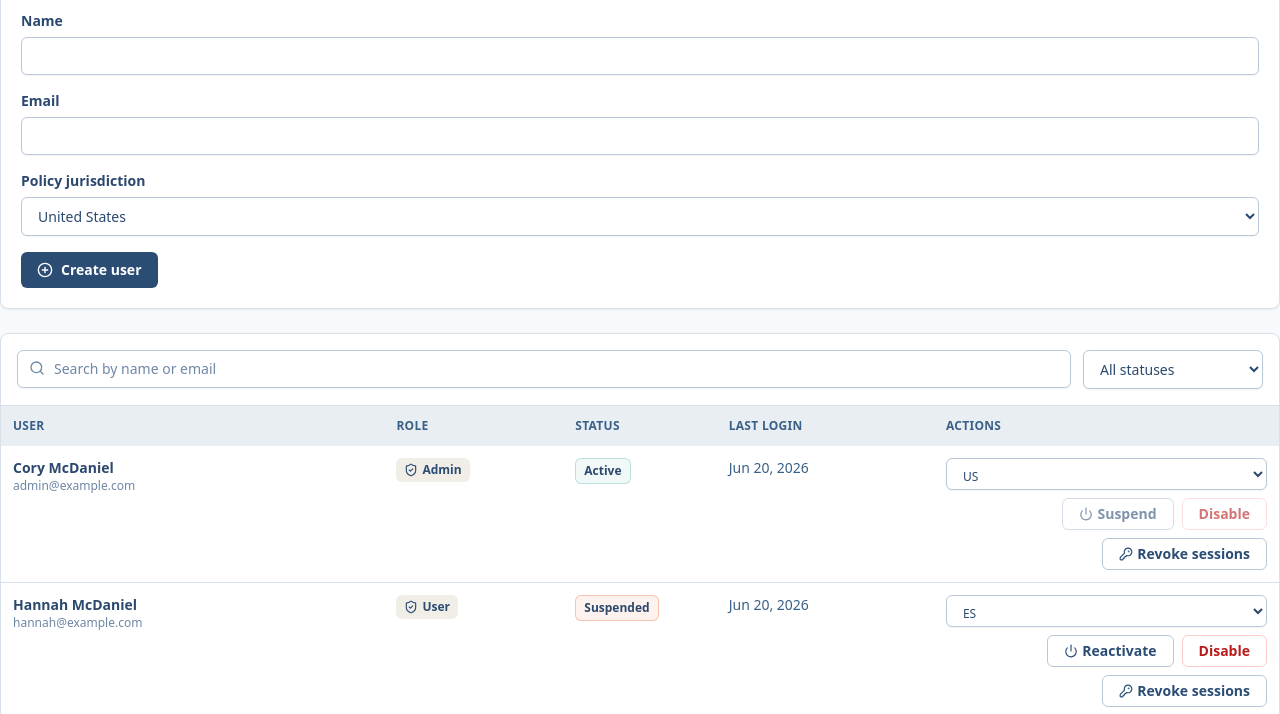
Test: Back Office responsive layout › lets an administrator assign a user's policy jurisdiction
This screenshot has width=1280, height=714.
(page scrolled)
Select "US" in the dropdown named "Policy jurisdiction for hannah@example.com" at (1106, 611), box [946,595,1267,627]
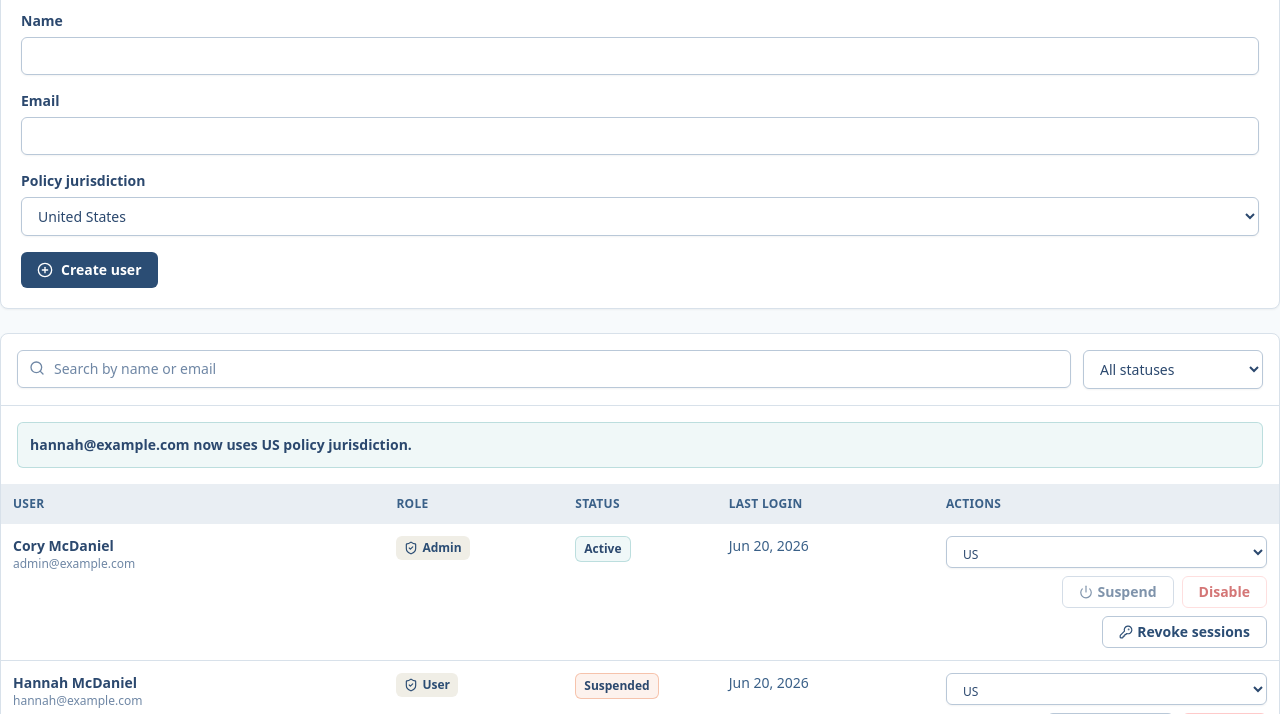
Result: the text "hannah@example.com now uses US policy jurisdiction." is shown at [17,422,1263,468]
